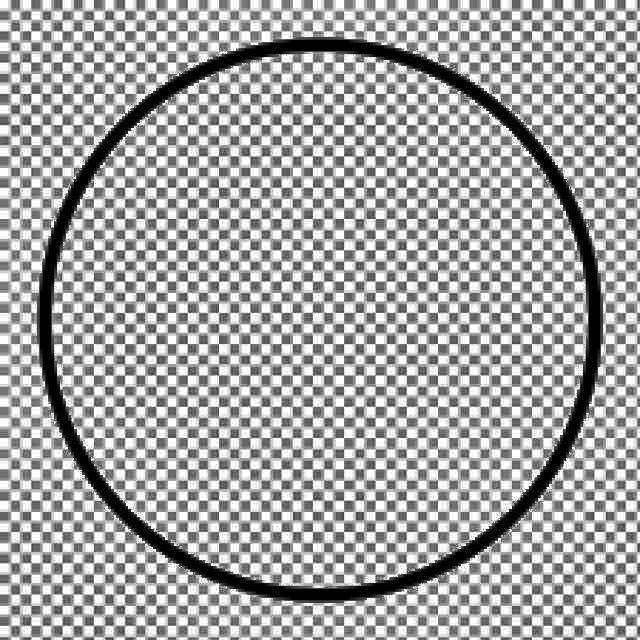Circle: (28, 30, 610, 603)
